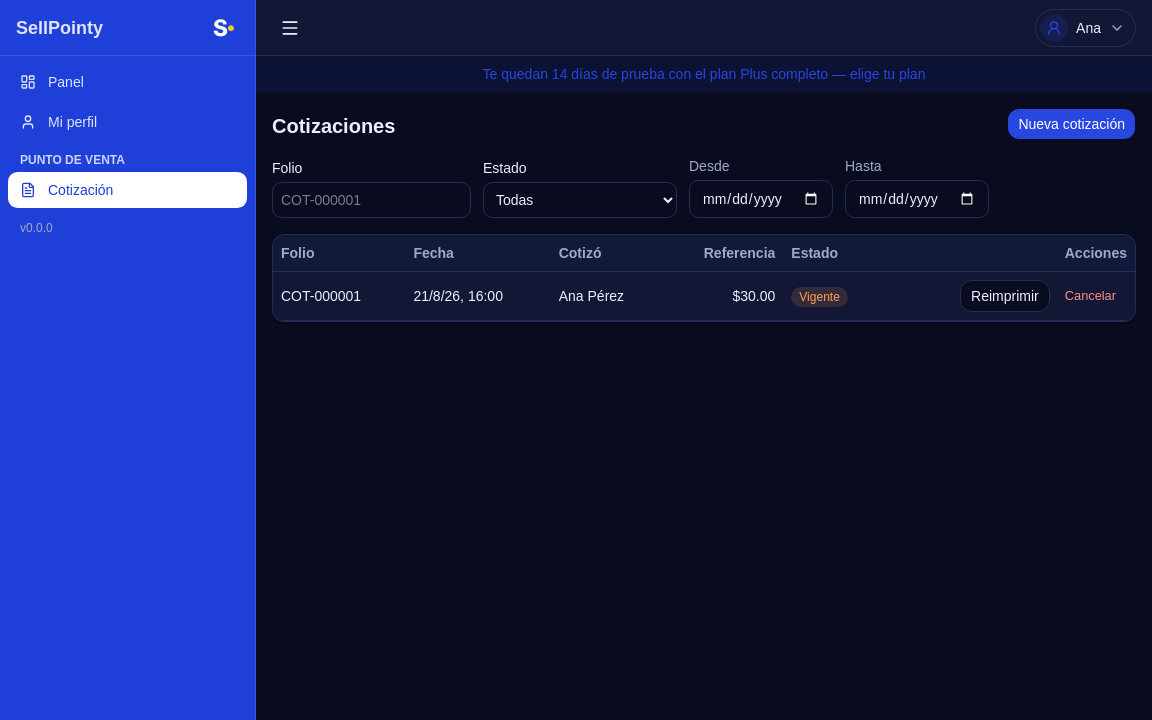
Cotización (F4-QUOTE-03 / F4-QUOTE-04) › cancelar desde la lista (F10-MANFIX-12) › un rechazo del servidor se pinta DENTRO del aviso
The image size is (1152, 720).
Expected: the text "COT-000001" is shown, [273,272,405,320]
Click the button "Cancelar" at (1090, 296), box [1054,282,1127,310]
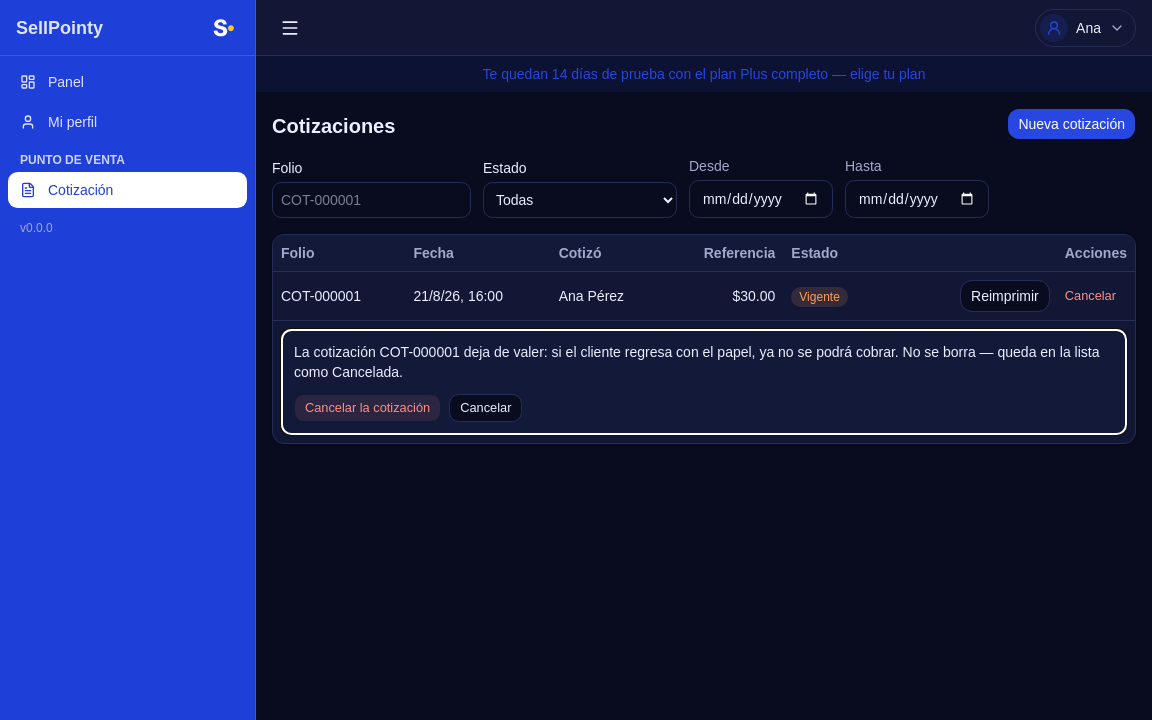
Click the button "Cancelar la cotización" at (368, 408), box [294,394,441,422]
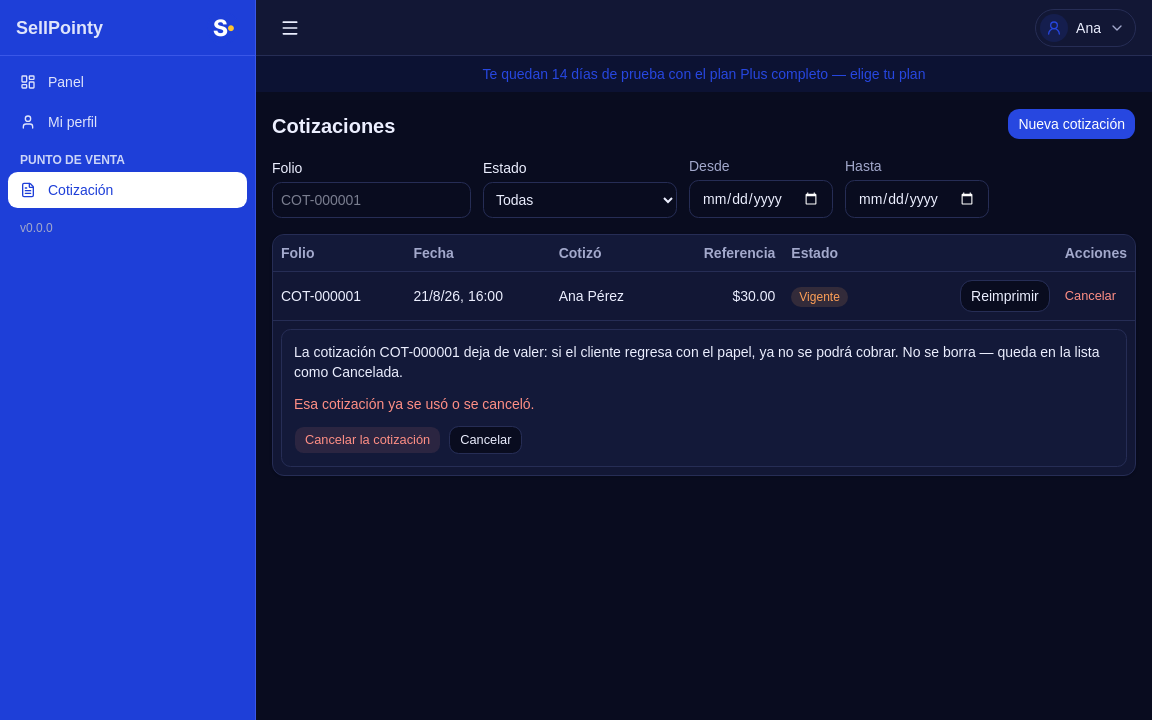
Now the text "Esa cotización ya se usó o se canceló." is shown, box [294,396,534,412]
